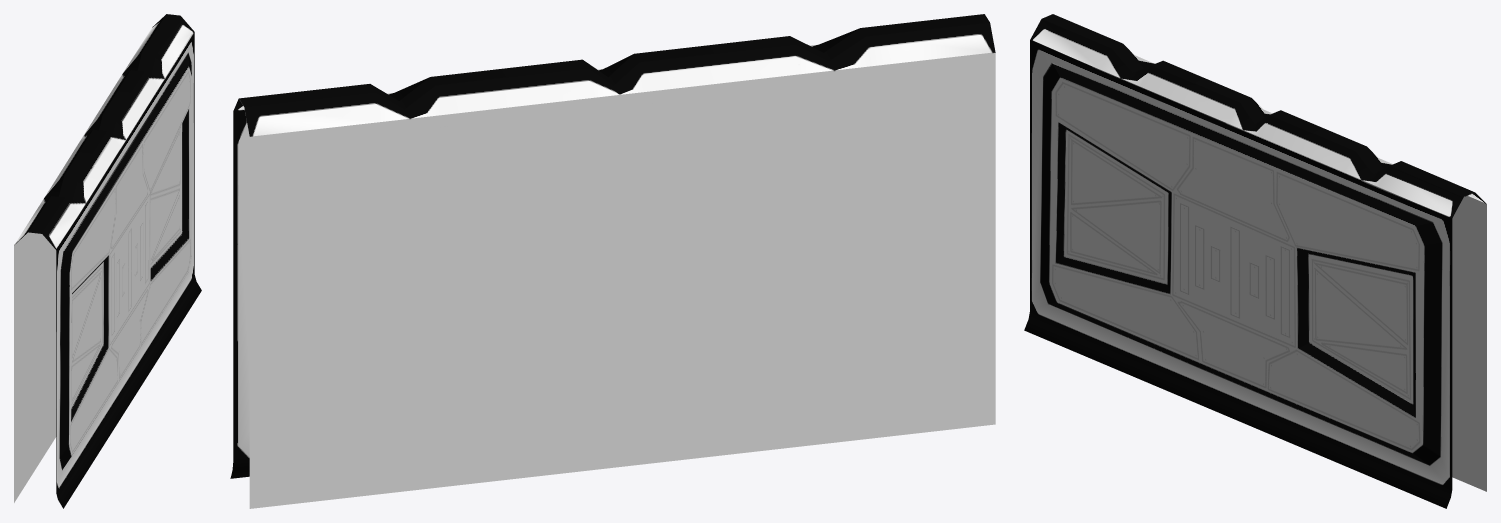
The model's file is NIeuwe Muur Schuin 1.fbx.
The picture shows the model from 3 angles, left to right: view 1: azimuth 30°, elevation 25°; view 2: azimuth 150°, elevation 25°; view 3: azimuth 270°, elevation 25°; orthographic projection. The views are drawn at different scales.
Visible parts, largest first — view 1: Nieuwe_Muur_Schuin_1; view 2: Nieuwe_Muur_Schuin_1; view 3: Nieuwe_Muur_Schuin_1.
Part boxes in pixels (box(x1,y1,x2,y2)): Nieuwe_Muur_Schuin_1: box(14, 14, 201, 508); Nieuwe_Muur_Schuin_1: box(230, 14, 995, 508); Nieuwe_Muur_Schuin_1: box(1024, 14, 1486, 508).
Size of the model in its own units: 21.85 by 15.85 by 21.84.
Materials: 1 (1 with a texture image).
